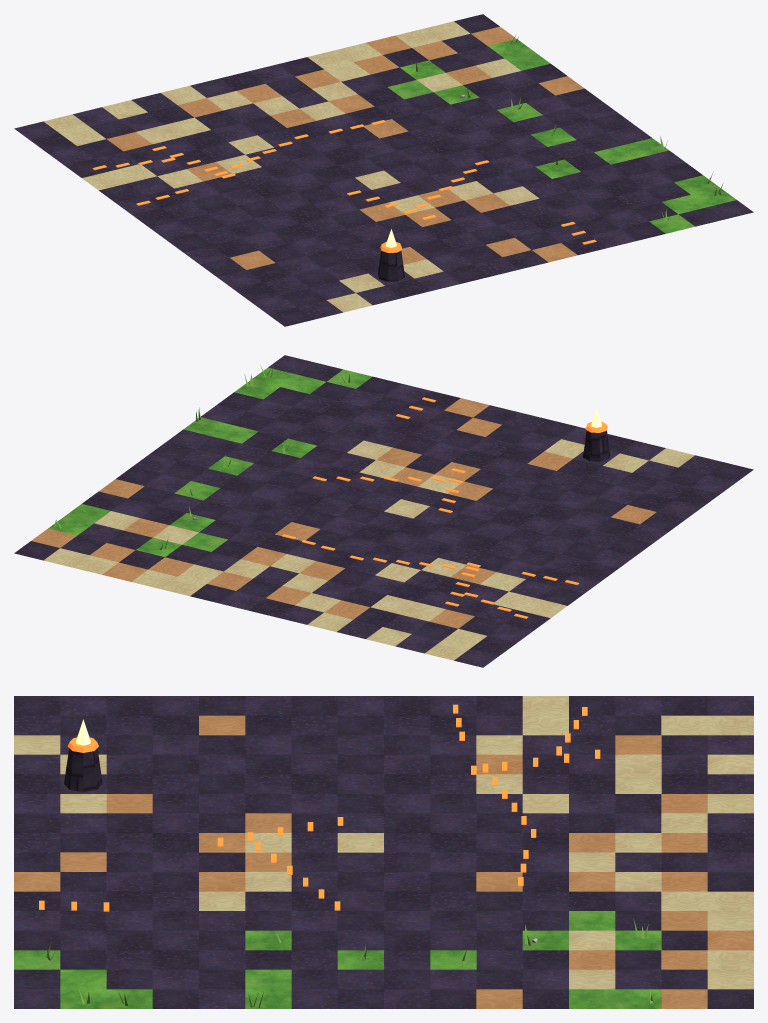
The model's file is chunk_7_22.glb.
The picture shows the model from 3 angles, top to bottom: view 1: azimuth 30°, elevation 25°; view 2: azimuth 150°, elevation 25°; view 3: azimuth 270°, elevation 25°; orthographic projection. The views are drawn at different scales.
Parts seen in each view (by area): view 1: chunk_7_22; view 2: chunk_7_22; view 3: chunk_7_22.
Part boxes in pixels (left/top/right/bottom): chunk_7_22: left=14, top=14, right=753, bottom=326; chunk_7_22: left=14, top=355, right=753, bottom=667; chunk_7_22: left=14, top=696, right=753, bottom=1008.
Size of the model in its own units: 16.01 by 1.58 by 16.
10 materials, 7 textured.
